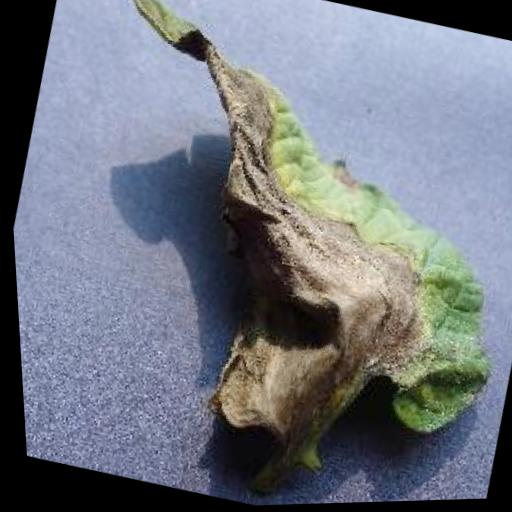Late Blight: (29, 0, 512, 489)
